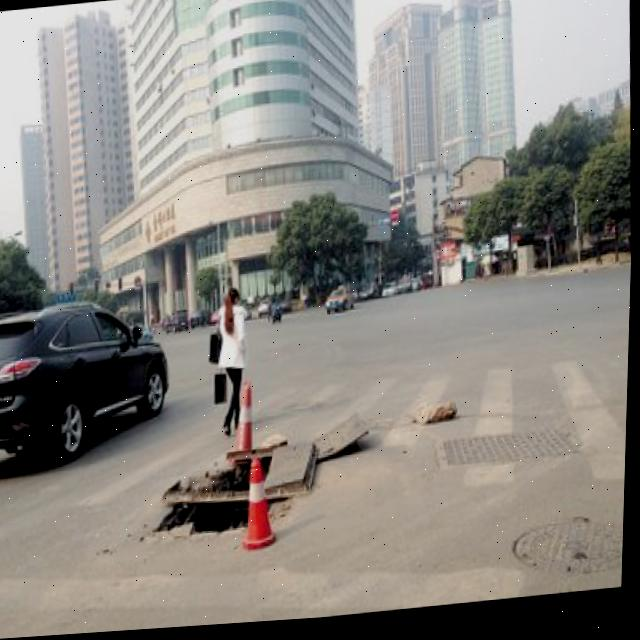manhole: (158, 439, 301, 555)
